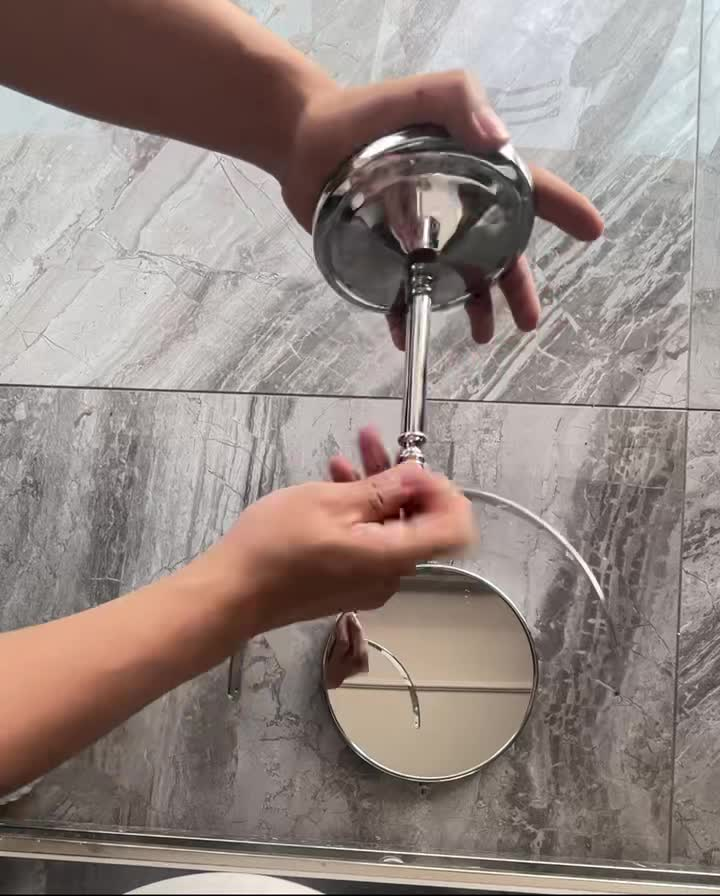base: (315, 120, 558, 300)
mirror: (222, 292, 631, 652), (313, 562, 533, 782)
